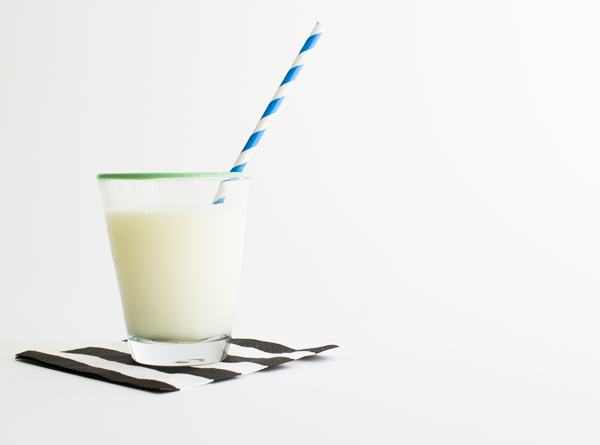glass of milk: (86, 156, 271, 369)
